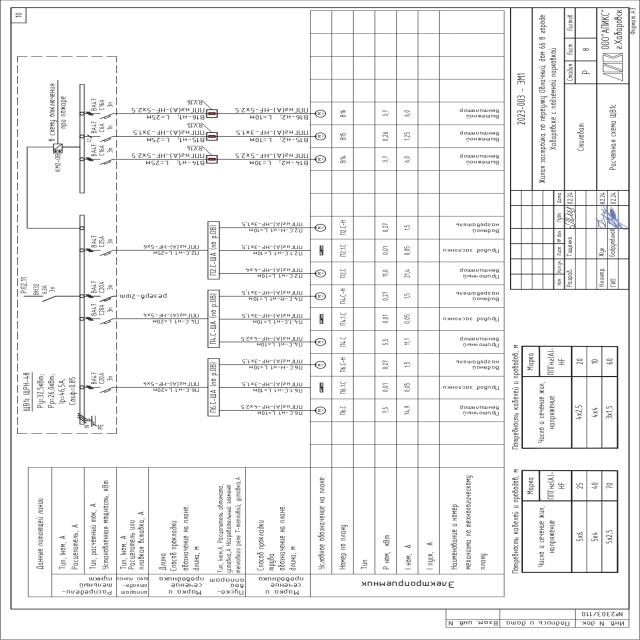-: (22, 370, 32, 412), (90, 142, 116, 156), (31, 282, 56, 296), (90, 371, 115, 385), (89, 304, 114, 318), (90, 234, 114, 248), (90, 280, 114, 294), (90, 120, 114, 134), (89, 98, 114, 111), (54, 154, 62, 172)
KM: (52, 144, 64, 154)
QF: (96, 134, 115, 143), (96, 386, 115, 394), (95, 318, 114, 326), (96, 294, 115, 302), (95, 112, 114, 120), (96, 248, 114, 256), (98, 157, 116, 165)
QS: (39, 294, 57, 302)
